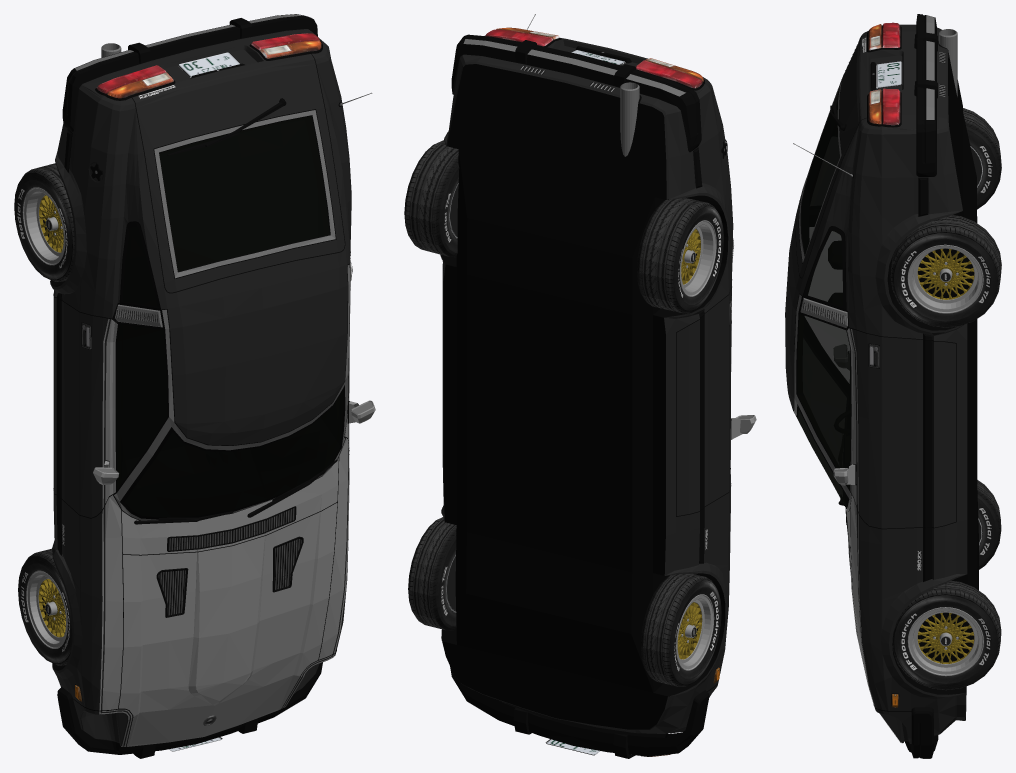
The picture shows the model from 3 angles, left to right: view 1: azimuth 30°, elevation 25°; view 2: azimuth 150°, elevation 25°; view 3: azimuth 270°, elevation 25°; orthographic projection. The views are drawn at different scales.
Visible parts, largest first — view 1: body_body_0, body_body2_0, body_window_0, body_interior_0, body_bkg_0, body_chrome_0, body_bk_0, body_tire_0, body_duct_0, body_w_chrome_0, body_lens_0, body_line_0 (+2 smaller); view 2: body_bk_0, body_body_0, body_tire_0, body_bkg_0, body_w_chrome_0, body_chrome_0, body_lens_0, body_w_gold_0; view 3: body_body_0, body_tire_0, body_window_0, body_bk_0, body_bkg_0, body_w_chrome_0, body_chrome_0, body_interior_0, body_w_gold_0, body_body2_0, body_lens_0, body_line_0 (+2 smaller).
Part boxes in pixels (x1,y1,x2,y2): body_body_0: (50,29,351,746); body_body2_0: (93,287,375,746); body_window_0: (116,116,342,517); body_interior_0: (116,116,341,516); body_bkg_0: (56,15,349,758); body_chrome_0: (75,14,372,520); body_bk_0: (50,14,350,699); body_tire_0: (14,163,74,665); body_duct_0: (158,507,301,615); body_w_chrome_0: (22,187,67,648); body_lens_0: (75,33,321,701); body_line_0: (53,53,350,746); body_bk_0: (441,38,728,756); body_body_0: (440,38,733,733); body_tire_0: (404,140,724,686); body_bkg_0: (450,34,731,758); body_w_chrome_0: (676,220,716,670); body_chrome_0: (463,14,753,756); body_lens_0: (485,27,719,756); body_w_gold_0: (677,229,702,659); body_body_0: (785,24,967,743); body_tire_0: (890,108,1001,690); body_window_0: (797,90,850,504); body_bk_0: (793,15,978,705); body_bkg_0: (803,14,938,758); body_w_chrome_0: (907,244,983,676); body_chrome_0: (793,15,957,758); body_interior_0: (798,101,850,501); body_w_gold_0: (917,248,974,663); body_body2_0: (833,328,902,743); body_lens_0: (868,22,900,707); body_line_0: (795,35,956,711).
Bounding box in the file's own units: 1.22 × 2.94 × 0.8624.
